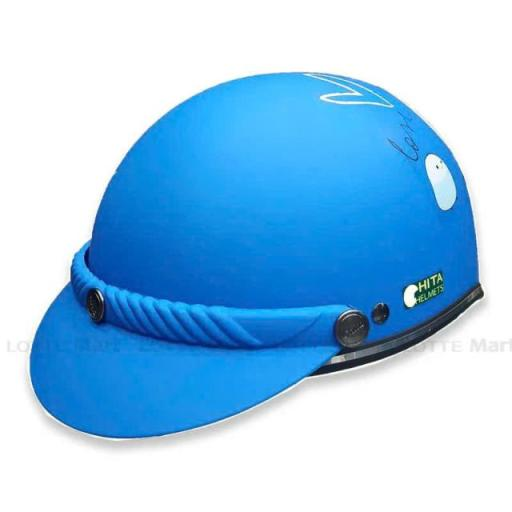with helmet: (25, 64, 490, 442)
